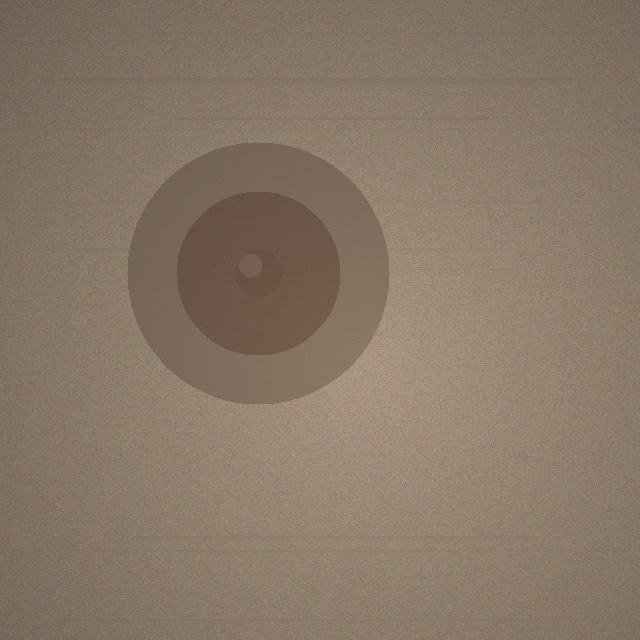good: (127, 142, 389, 404)
